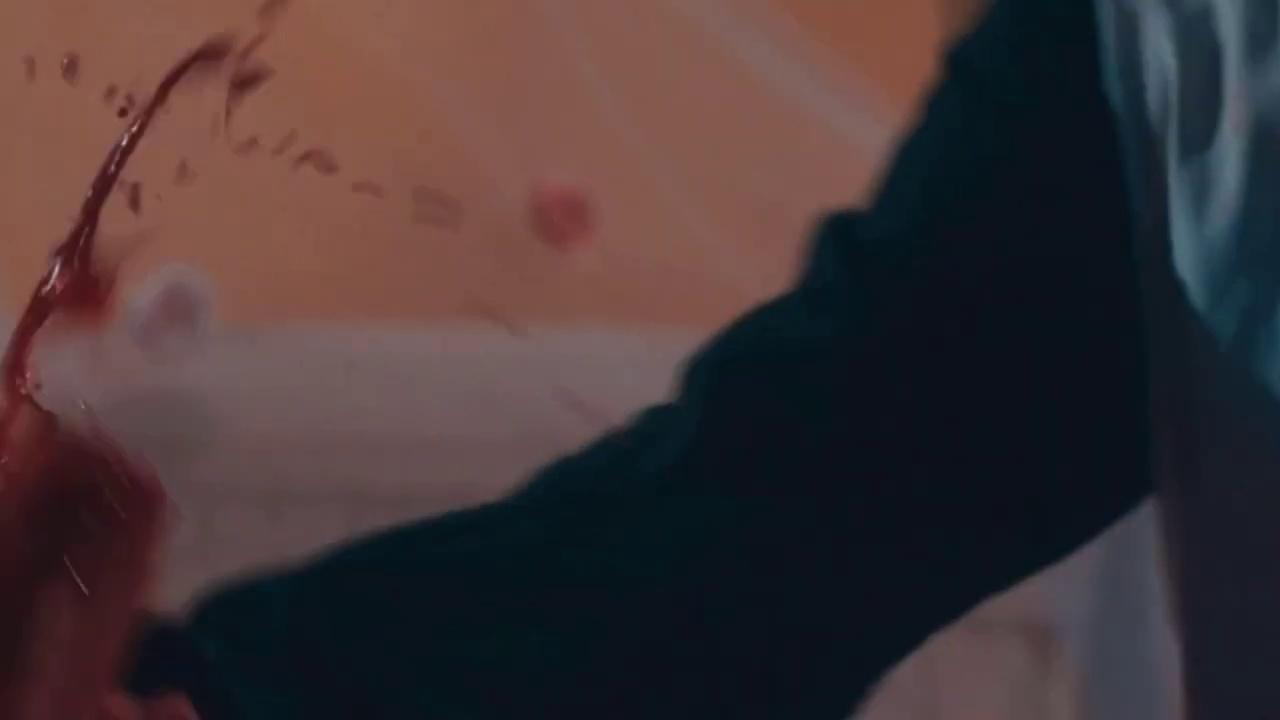Fire: (0, 0, 480, 718), (413, 282, 630, 490), (532, 184, 594, 250)
